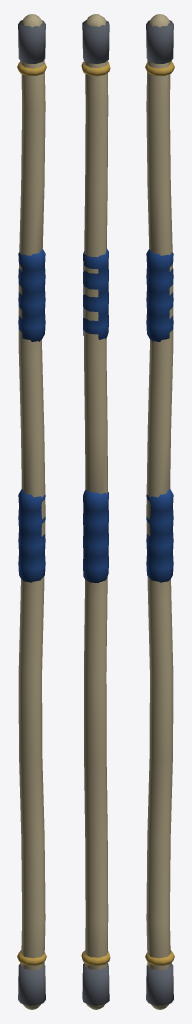
The model's file is staff.glb.
3 views of the same model, side by side, from view 1: azimuth 90°, elevation 25°; view 2: azimuth 150°, elevation 25°; view 3: azimuth 270°, elevation 25° (orthographic).
Parts seen in each view (by area): view 1: staff; view 2: staff; view 3: staff.
Part boxes in pixels (x1,y1,x2,y2): staff: (17, 14, 46, 1009); staff: (81, 14, 110, 1009); staff: (145, 14, 174, 1009).
Size of the model in its own units: 0.0447 by 1.74 by 0.047.
